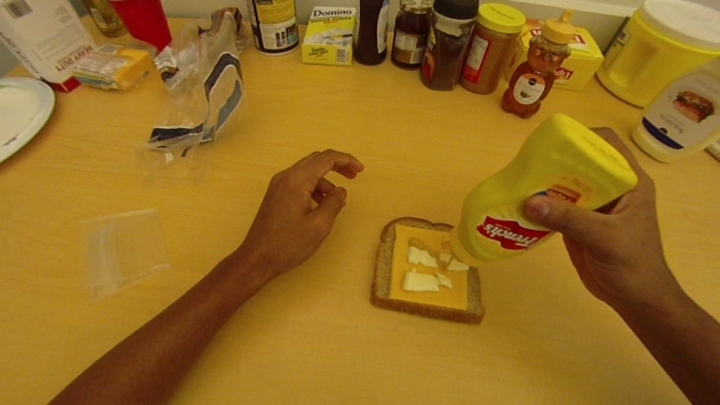hand: (531, 121, 671, 318), (247, 147, 359, 268)
